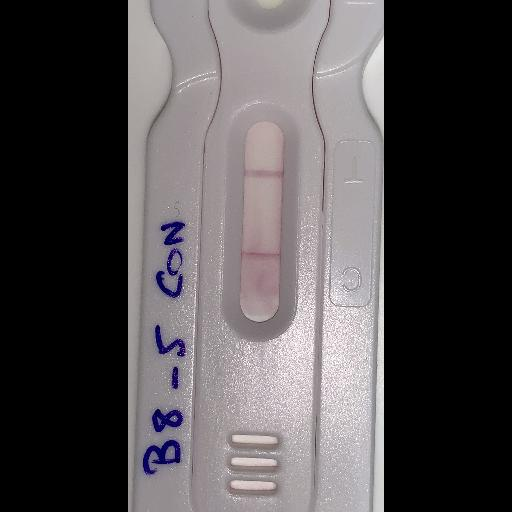Pos: (134, 0, 382, 510)
